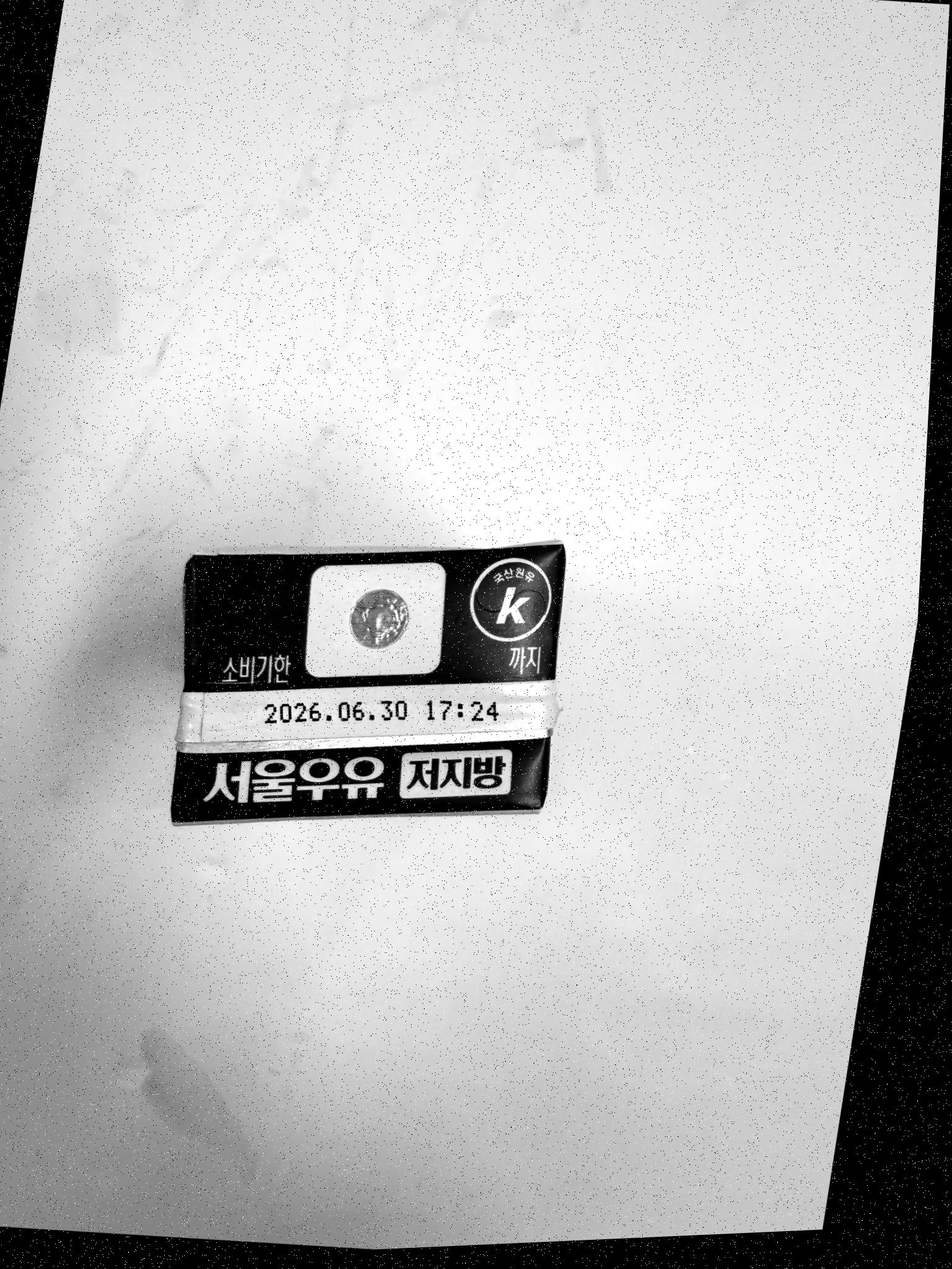milk_blue: (170, 541, 562, 831)
